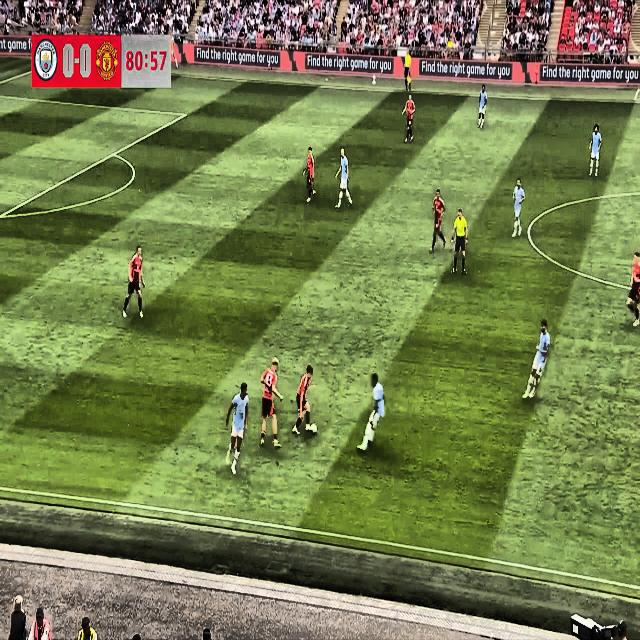ball: (310, 416, 318, 441)
players: (522, 315, 554, 405), (225, 381, 251, 478), (260, 353, 285, 451), (359, 373, 389, 453), (121, 238, 150, 320), (331, 145, 355, 216), (508, 176, 531, 246), (294, 364, 314, 436), (429, 185, 448, 258), (302, 139, 322, 208), (586, 118, 606, 184), (627, 243, 639, 328), (402, 93, 416, 145), (477, 76, 488, 135)
refree: (448, 209, 471, 281), (400, 45, 416, 99)
